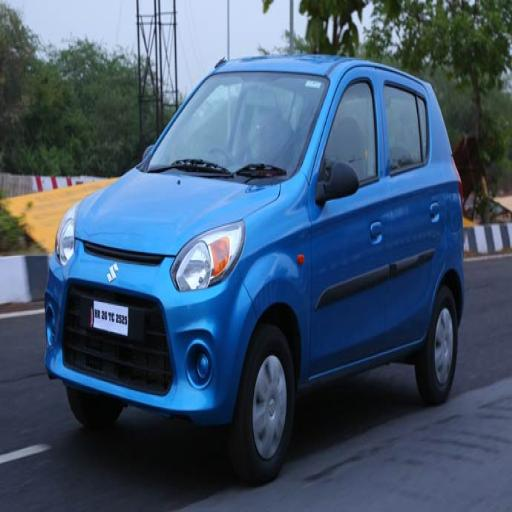License: (89, 292, 133, 340)
